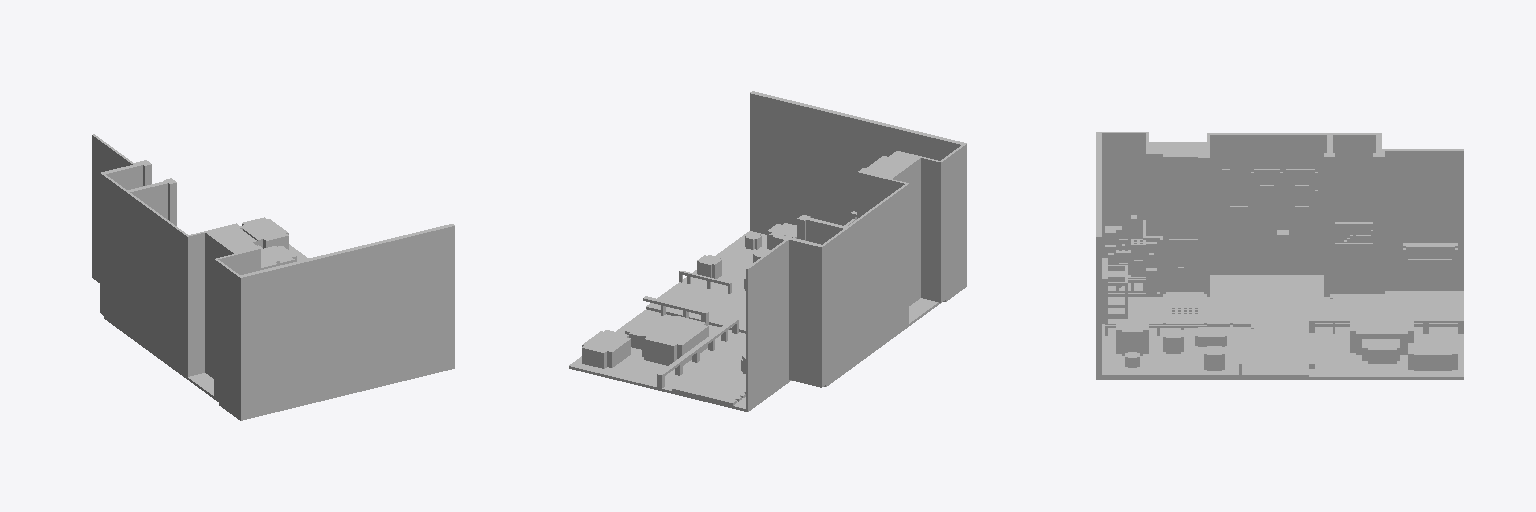
File: Sci-Fi Level 1.obj
The picture shows the model from 3 angles: view 1: azimuth 30°, elevation 25°; view 2: azimuth 150°, elevation 25°; view 3: azimuth 270°, elevation 25°; orthographic projection.
Parts seen in each view (by area): view 1: object 1; view 2: object 1; view 3: object 1.
Part boxes in pixels (x1,y1,x2,y2): object 1: (92, 134, 454, 420); object 1: (569, 91, 966, 411); object 1: (1096, 132, 1463, 379).
Bounding box in the file's own units: 8.5 × 5.4 × 12.6.